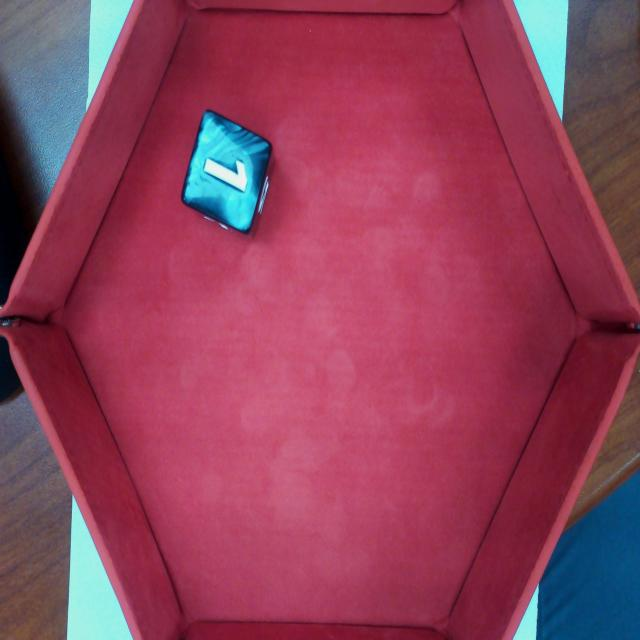dice: (184, 110, 275, 234)
